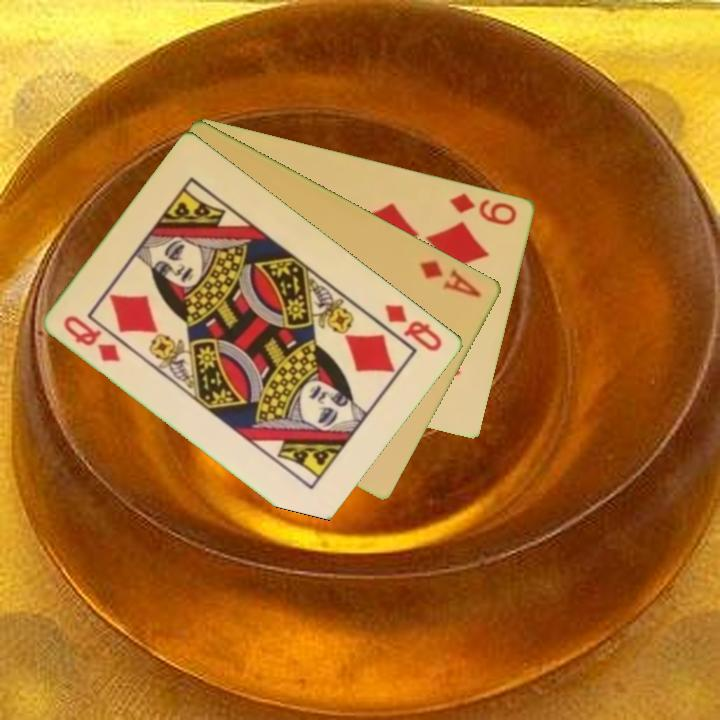9d: (446, 189, 520, 228)
Ad: (416, 256, 485, 300)
Qd: (382, 300, 446, 355), (60, 311, 124, 365)
